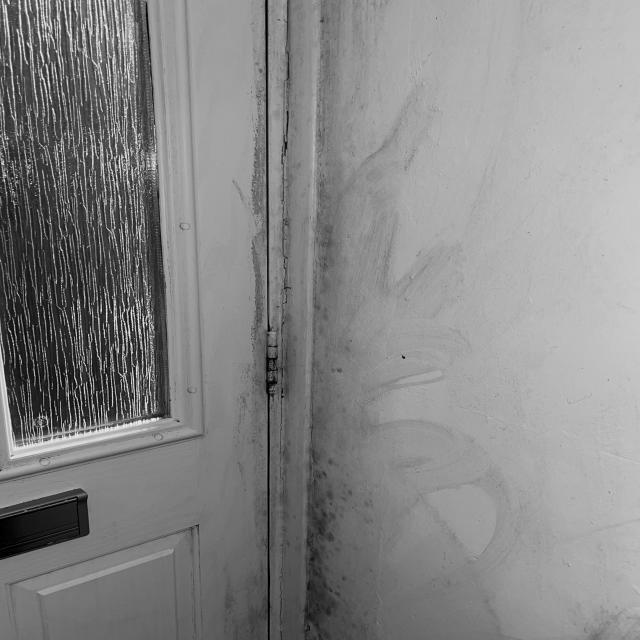stain marks: (209, 0, 546, 640)
